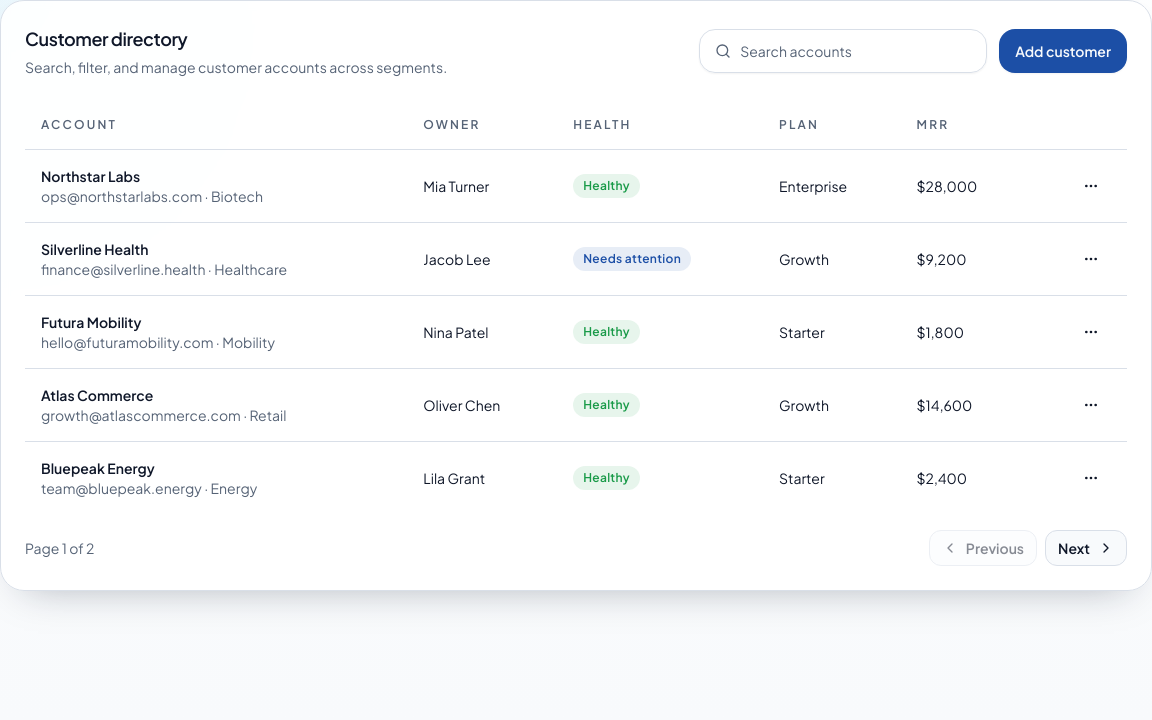
Test case: CustomersTable › filters customers by search input
Type "Summit" into the field with placeholder "Search accounts" at (843, 51), box [699,29,987,73]
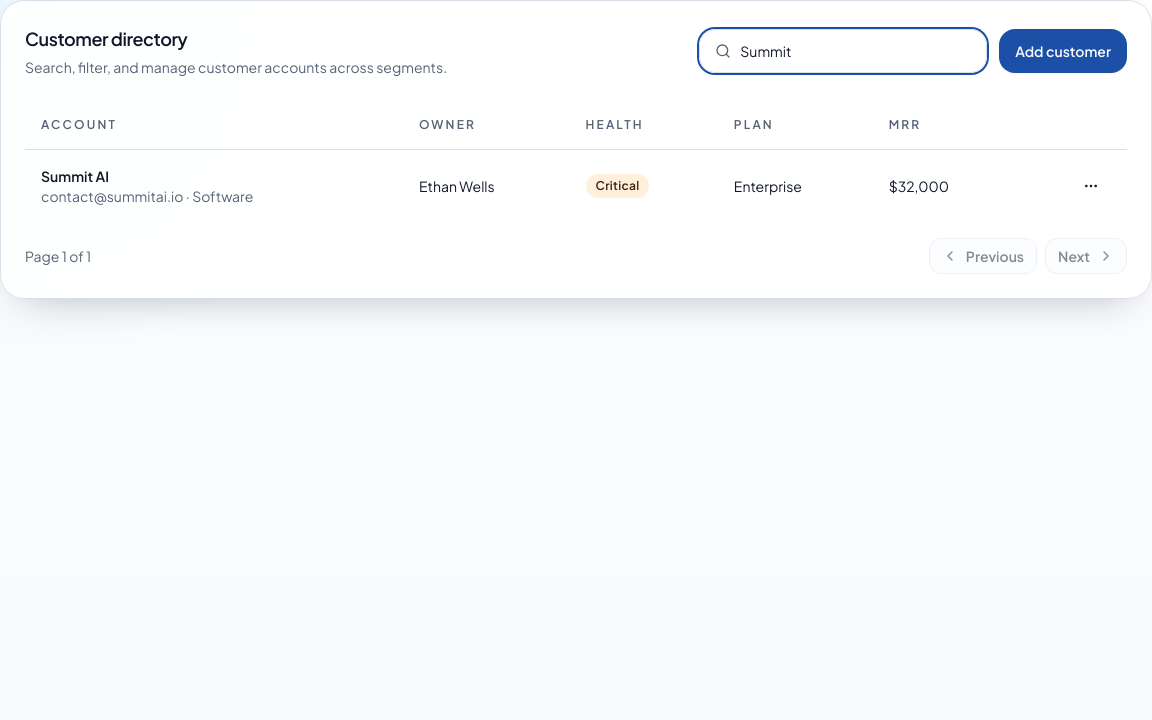
Now the link "Summit AI" is shown, box [41,166,109,184]
Now the link "Northstar Labs" is gone
